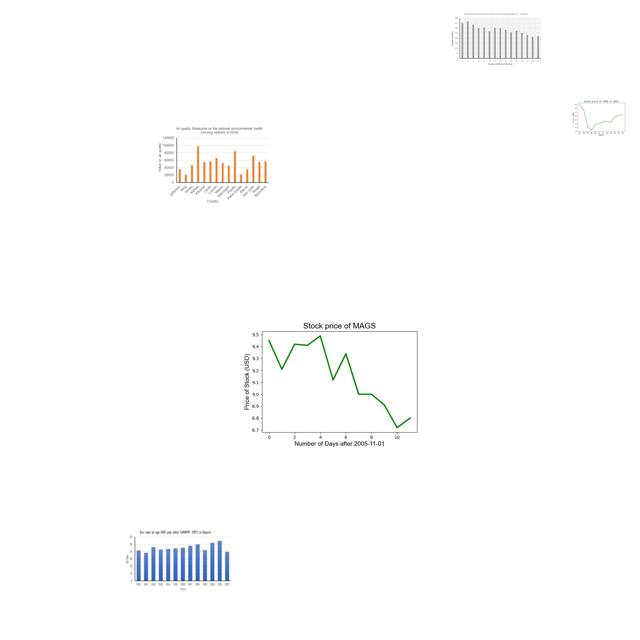Graph: (237, 306, 437, 456), (155, 125, 271, 205), (125, 529, 233, 592), (449, 11, 543, 68), (570, 94, 631, 140)
